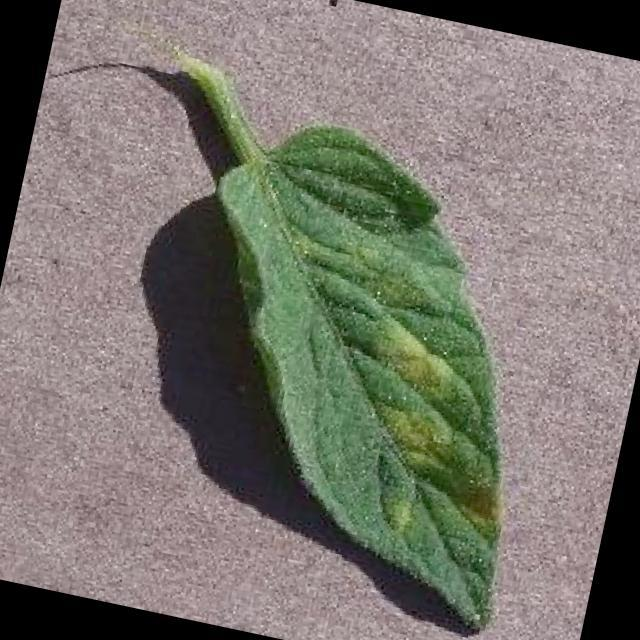Tomato mold leaf: (136, 102, 586, 638)
